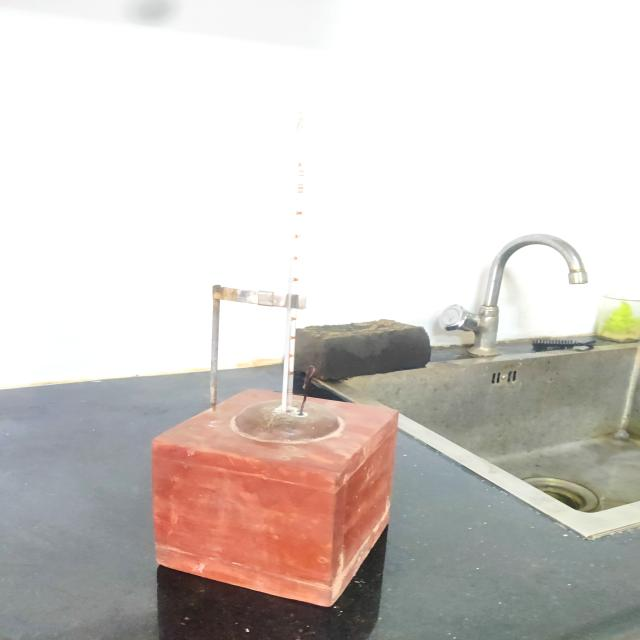Calorimeter: (140, 46, 427, 640)
